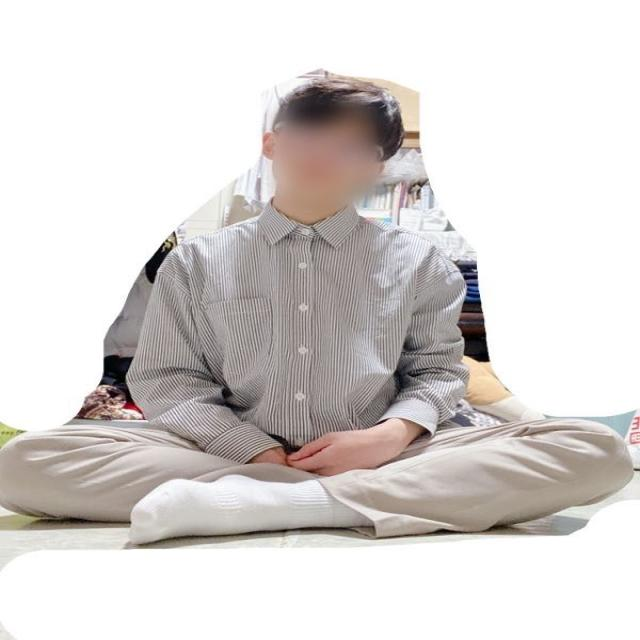cottonpants: (0, 415, 635, 542)
shirt: (97, 190, 471, 452)
